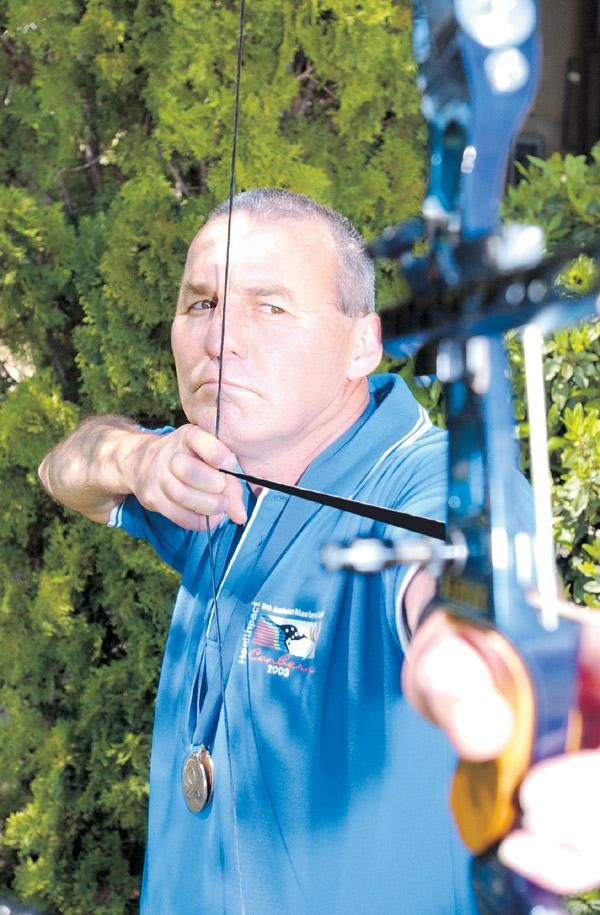person: (30, 181, 514, 915)
